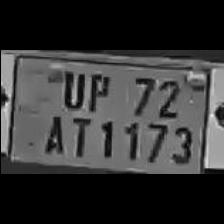1: (116, 119, 140, 160), (93, 116, 115, 158)
2: (152, 75, 181, 117)
3: (168, 120, 192, 164)
7: (126, 72, 154, 116), (140, 119, 166, 163)
A: (38, 110, 66, 154)
P: (84, 69, 112, 111)
T: (66, 113, 92, 157)
U: (57, 68, 85, 108)
